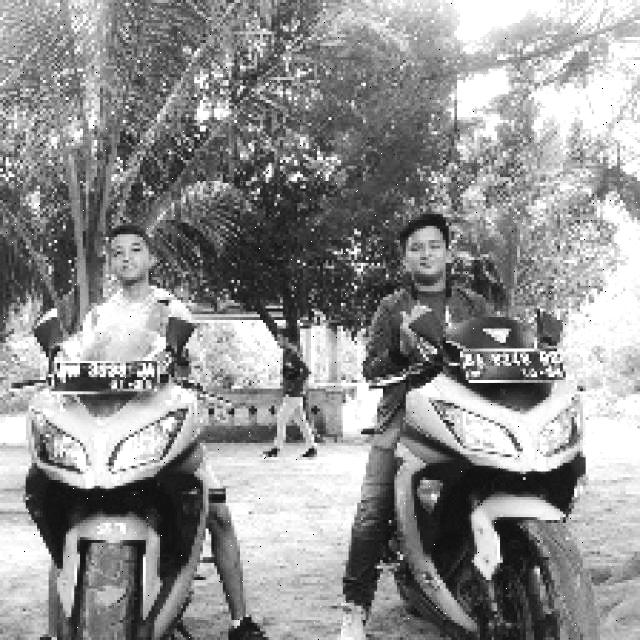Bike: (381, 329, 607, 635), (23, 330, 203, 639)
